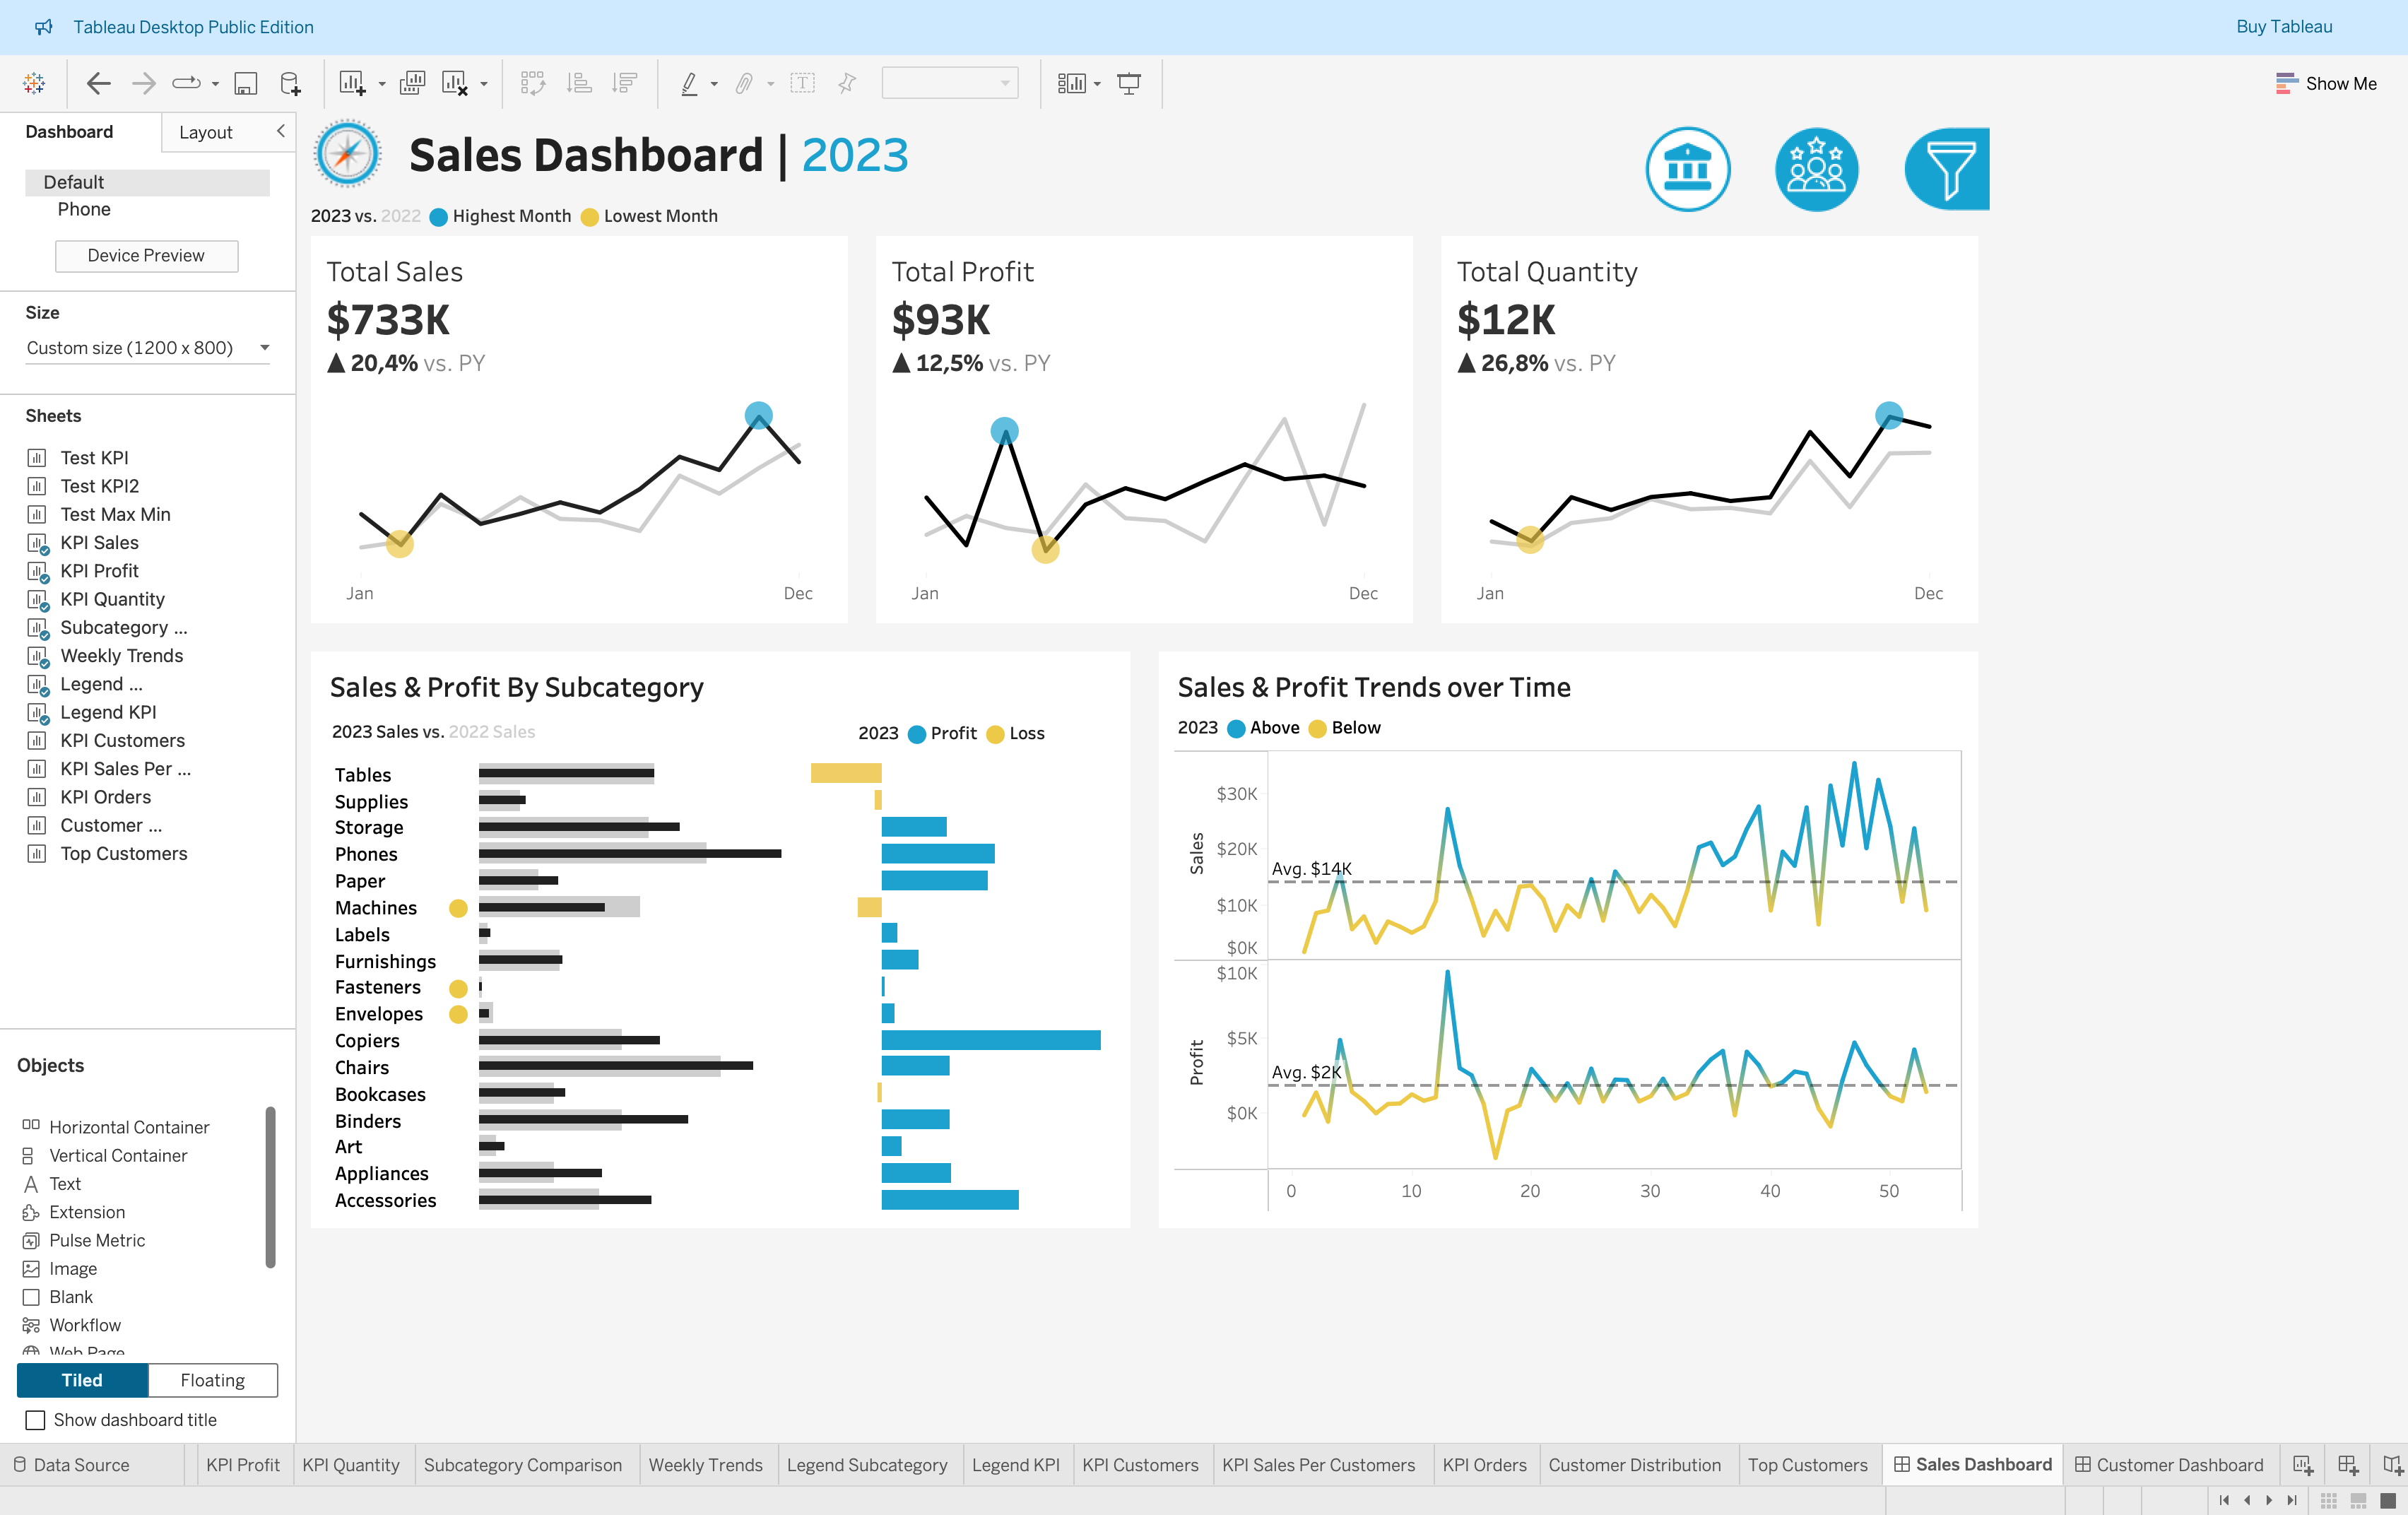

What the dashboard file says about the page in this screenshot:
{"tool":"tableau","page":{"name":"Sales Dashboard","canvas":[1200,800],"ordinal":1},"visuals":[{"type":"image","param":"Image/Icon - Logo.png","box":[0,0,73,59]},{"type":"text","box":[73,0,820,59]},{"type":"dashboard-object","box":[940,6,91,70]},{"type":"dashboard-object","box":[1031,6,91,70]},{"type":"blank","box":[952,10,237,86]},{"type":"worksheet","title":"Legend KPI","mark":"Automatic","box":[0,59,1200,29]},{"type":"worksheet","title":"KPI Sales","mark":"Automatic","rows":["Calculation_721701895347843083"],"cols":["Order Date"],"box":[0,88,400,284]},{"type":"worksheet","title":"KPI Profit","mark":"Automatic","rows":["Min/Max Sales (copy)_237846410425847814"],"cols":["Order Date"],"box":[400,88,400,284]},{"type":"worksheet","title":"KPI Quantity","mark":"Automatic","rows":["Min/Max Sales (copy) (copy)_237846410425856007"],"cols":["Order Date"],"box":[800,88,400,284]},{"type":"text","box":[952,96,237,37]},{"type":"parameter","param":"[Parameters].[Parameter 1]","box":[952,133,237,55]},{"type":"text","box":[952,188,237,32]},{"type":"filter","title":"KPI Sales","param":"[federated.1kpxa041aiai2y1cl4pui1t4eju9].[none:Category:nk]","box":[952,220,237,57]},{"type":"filter","title":"KPI Sales","param":"[federated.1kpxa041aiai2y1cl4pui1t4eju9].[none:Sub-Category:nk]","box":[952,277,237,57]},{"type":"blank","box":[952,334,237,60]},{"type":"text","box":[17,389,566,34]},{"type":"text","box":[617,389,566,34]},{"type":"text","box":[952,394,237,32]},{"type":"worksheet","title":"Legend Subcategory","mark":"Automatic","box":[17,423,374,32]},{"type":"text","box":[391,423,192,32]},{"type":"text","box":[617,423,566,25]},{"type":"filter","title":"KPI Sales","param":"[federated.1kpxa041aiai2y1cl4pui1t4eju9].[none:Region:nk]","box":[952,426,237,57]},{"type":"worksheet","title":"Weekly Trends","mark":"Automatic","rows":["Calculation_721701895334993921","CY Sales (copy)_237846410424180736"],"cols":["Order Date"],"box":[617,448,566,335]},{"type":"worksheet","title":"Subcategory Comparison","mark":"Bar","rows":["Sub-Category","Calculation_2435040078806671369"],"cols":["CY Sales (copy)_721701895335804930","Calculation_721701895334993921","CY Sales (copy)_237846410424180736"],"box":[17,455,566,328]},{"type":"filter","title":"KPI Sales","param":"[federated.1kpxa041aiai2y1cl4pui1t4eju9].[none:State:nk]","box":[952,483,237,57]},{"type":"filter","title":"KPI Sales","param":"[federated.1kpxa041aiai2y1cl4pui1t4eju9].[none:City:nk]","box":[952,540,237,57]}]}

Visuals, with their boxes on the page's 1200x800 design canvas (x1, y1, x2, y2). These are canvas units, not pixel positions in the 2408x1515 screenshot, which may show the page scaled, cropped or inside an application window:
image: pyautogui.locateOnScreen(0, 0, 73, 59)
text: pyautogui.locateOnScreen(73, 0, 893, 59)
dashboard-object: pyautogui.locateOnScreen(940, 6, 1031, 76)
dashboard-object: pyautogui.locateOnScreen(1031, 6, 1122, 76)
blank: pyautogui.locateOnScreen(952, 10, 1189, 96)
"Legend KPI" worksheet: pyautogui.locateOnScreen(0, 59, 1200, 88)
"KPI Sales" worksheet: pyautogui.locateOnScreen(0, 88, 400, 372)
"KPI Profit" worksheet: pyautogui.locateOnScreen(400, 88, 800, 372)
"KPI Quantity" worksheet: pyautogui.locateOnScreen(800, 88, 1200, 372)
text: pyautogui.locateOnScreen(952, 96, 1189, 133)
parameter: pyautogui.locateOnScreen(952, 133, 1189, 188)
text: pyautogui.locateOnScreen(952, 188, 1189, 220)
"KPI Sales" filter: pyautogui.locateOnScreen(952, 220, 1189, 277)
"KPI Sales" filter: pyautogui.locateOnScreen(952, 277, 1189, 334)
blank: pyautogui.locateOnScreen(952, 334, 1189, 394)
text: pyautogui.locateOnScreen(17, 389, 583, 423)
text: pyautogui.locateOnScreen(617, 389, 1183, 423)
text: pyautogui.locateOnScreen(952, 394, 1189, 426)
"Legend Subcategory" worksheet: pyautogui.locateOnScreen(17, 423, 391, 455)
text: pyautogui.locateOnScreen(391, 423, 583, 455)
text: pyautogui.locateOnScreen(617, 423, 1183, 448)
"KPI Sales" filter: pyautogui.locateOnScreen(952, 426, 1189, 483)
"Weekly Trends" worksheet: pyautogui.locateOnScreen(617, 448, 1183, 783)
"Subcategory Comparison" worksheet (Bar marks): pyautogui.locateOnScreen(17, 455, 583, 783)
"KPI Sales" filter: pyautogui.locateOnScreen(952, 483, 1189, 540)
"KPI Sales" filter: pyautogui.locateOnScreen(952, 540, 1189, 597)
